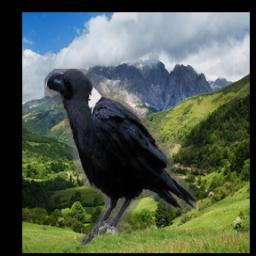Crow: (45, 70, 197, 248)
